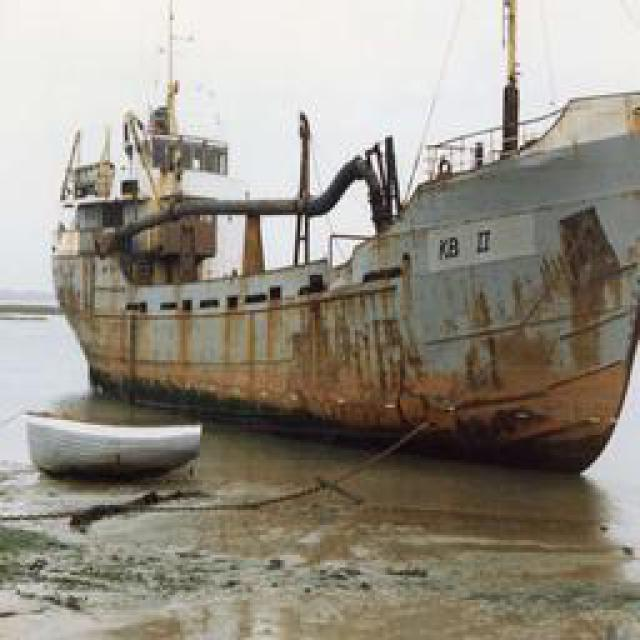Ship: (49, 103, 632, 481)
